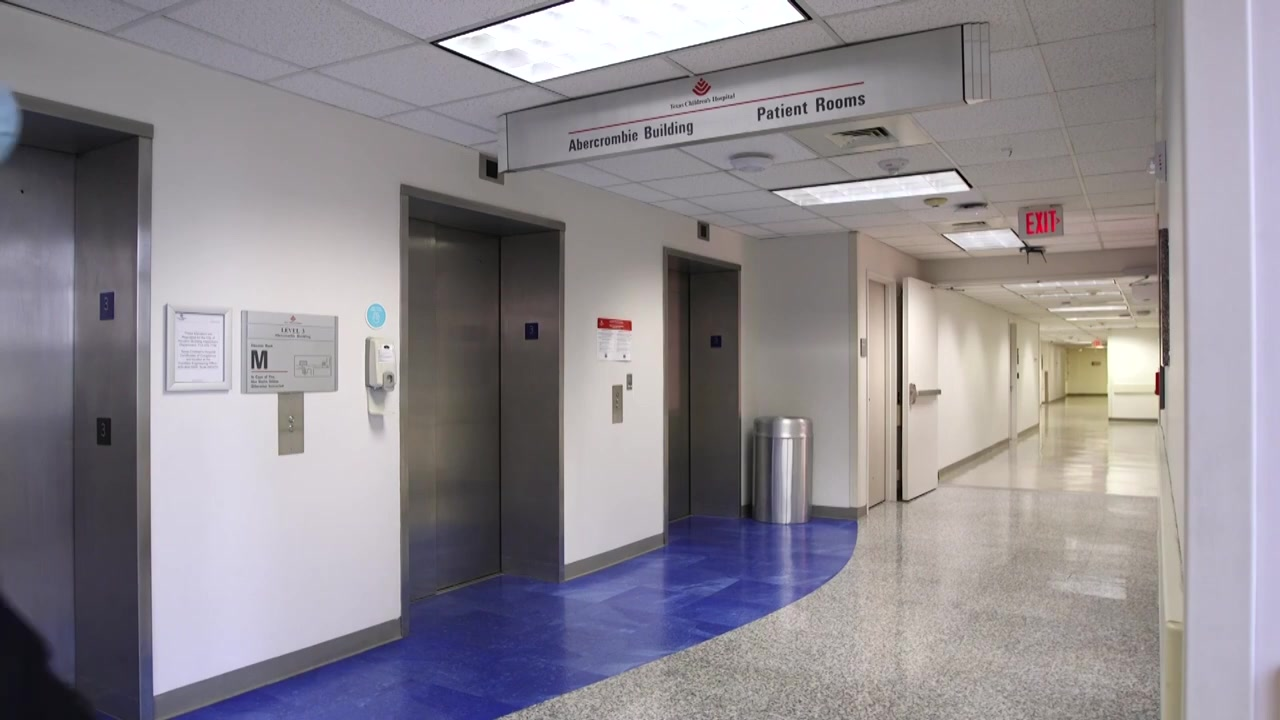dispenser: (363, 338, 397, 419)
elevator_panel: (278, 391, 306, 455), (612, 384, 626, 425)
push_latch: (906, 383, 942, 403)
waste_bin: (753, 417, 814, 525)
